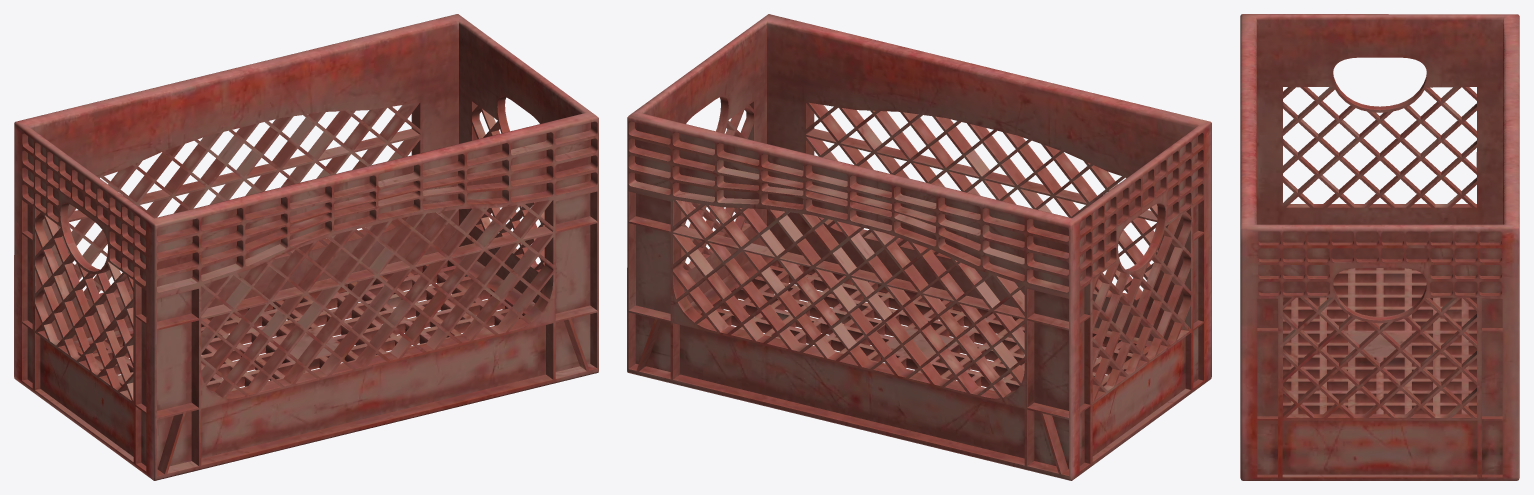
Rendered from plastic_crate_03.gltf.
3 renders of one model, left to right at view 1: azimuth 30°, elevation 25°; view 2: azimuth 150°, elevation 25°; view 3: azimuth 270°, elevation 25°, orthographic.
Parts seen in each view (by area): view 1: plastic_crate_03; view 2: plastic_crate_03; view 3: plastic_crate_03.
Boxes of the visible parts, box(x1,y1,x2,y2) form: plastic_crate_03: box(14, 14, 598, 480); plastic_crate_03: box(627, 14, 1211, 480); plastic_crate_03: box(1240, 14, 1519, 480).
Size of the model in its own units: 0.4811 by 0.2659 by 0.265.
Materials: 1 (1 with a texture image).
